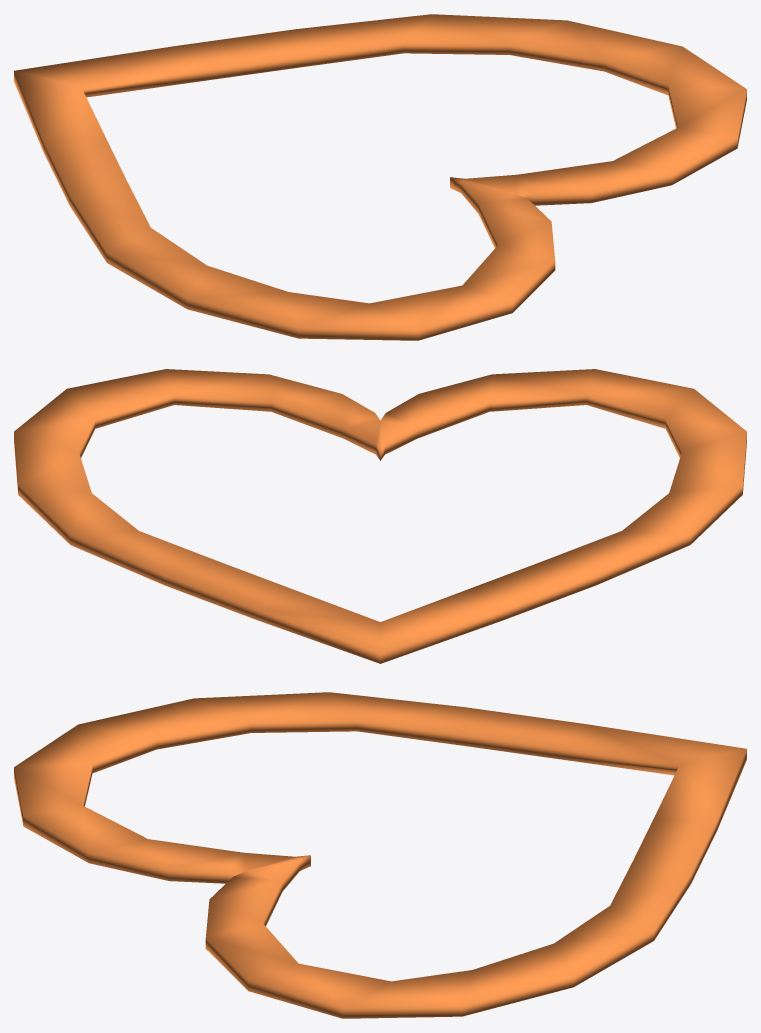
Rendered from heart_8.fbx.
3 views of the same model, one above another, from view 1: azimuth 30°, elevation 25°; view 2: azimuth 150°, elevation 25°; view 3: azimuth 270°, elevation 25° (orthographic). The views are drawn at different scales.
Visible parts, largest first — view 1: heart_8; view 2: heart_8; view 3: heart_8.
Boxes of the visible parts, box(x1,y1,x2,y2) form: heart_8: box(14, 14, 746, 340); heart_8: box(14, 369, 746, 663); heart_8: box(14, 692, 746, 1018).
Bounding box in the file's own units: 61.85 × 1 × 60.69.
